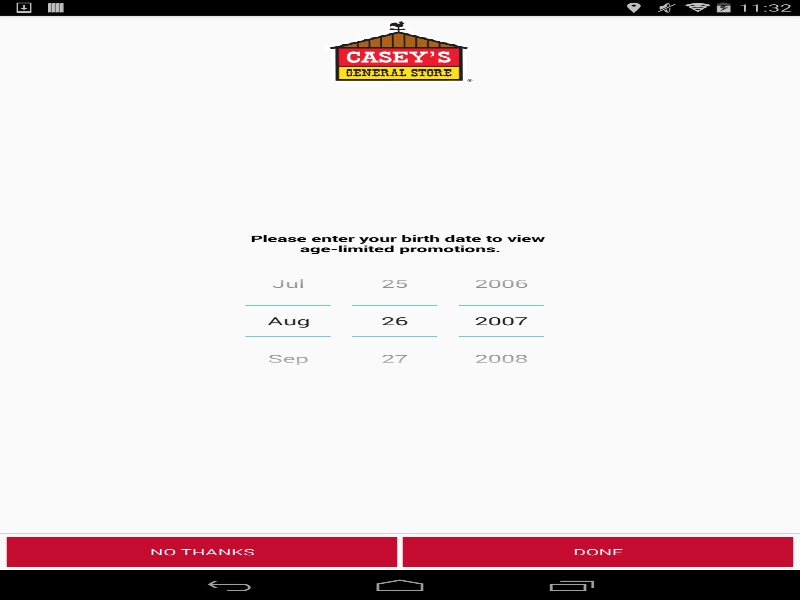Button: (6, 536, 397, 566), (402, 536, 793, 566), (458, 335, 544, 377), (245, 335, 330, 377), (352, 335, 437, 377), (458, 264, 544, 305), (245, 264, 330, 305), (352, 264, 437, 305)
Input: (458, 305, 544, 335), (245, 305, 330, 335), (352, 305, 437, 335)
